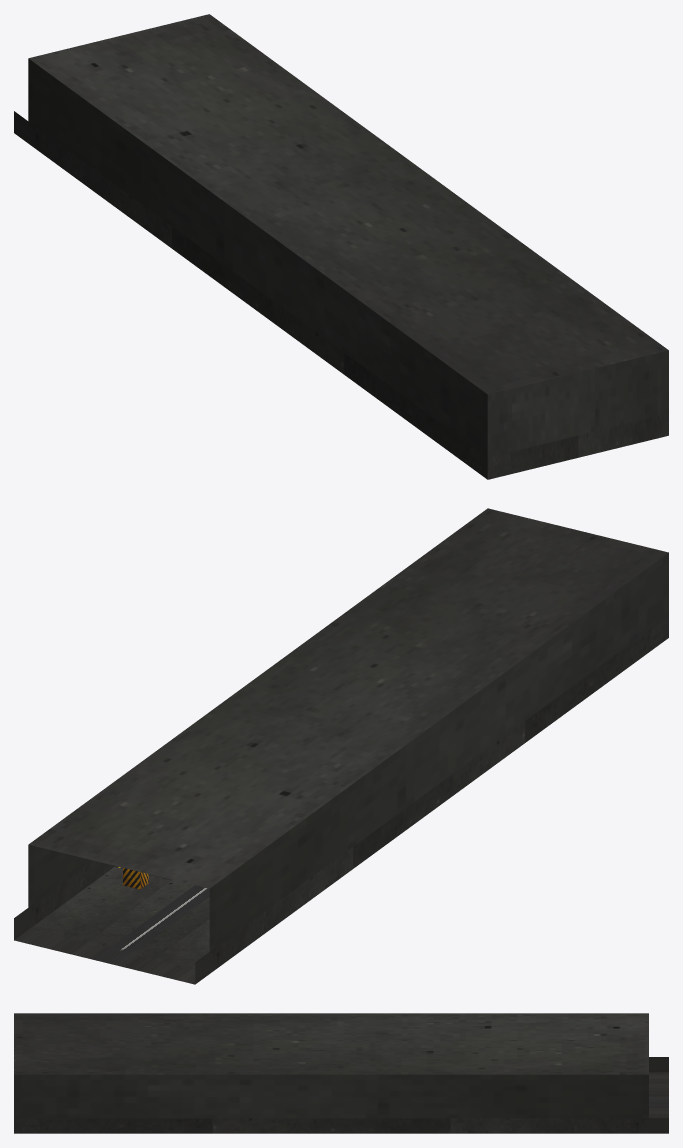
File: ParkingGarage.fbx
3 views of the same model, one above another, from view 1: azimuth 30°, elevation 25°; view 2: azimuth 150°, elevation 25°; view 3: azimuth 270°, elevation 25° (orthographic). The views are drawn at different scales.
Visible parts, largest first — view 1: Ceiling, Floor; view 2: Ceiling, Floor; view 3: Ceiling, Floor.
Part boxes in pixels (<box>): Ceiling: <box>28,14,668,457</box>; Floor: <box>14,111,668,479</box>; Ceiling: <box>28,508,668,951</box>; Floor: <box>14,616,668,984</box>; Ceiling: <box>14,1013,648,1118</box>; Floor: <box>14,1057,668,1133</box>.
Bounding box in the file's own units: 3487 × 1569 × 15793.
